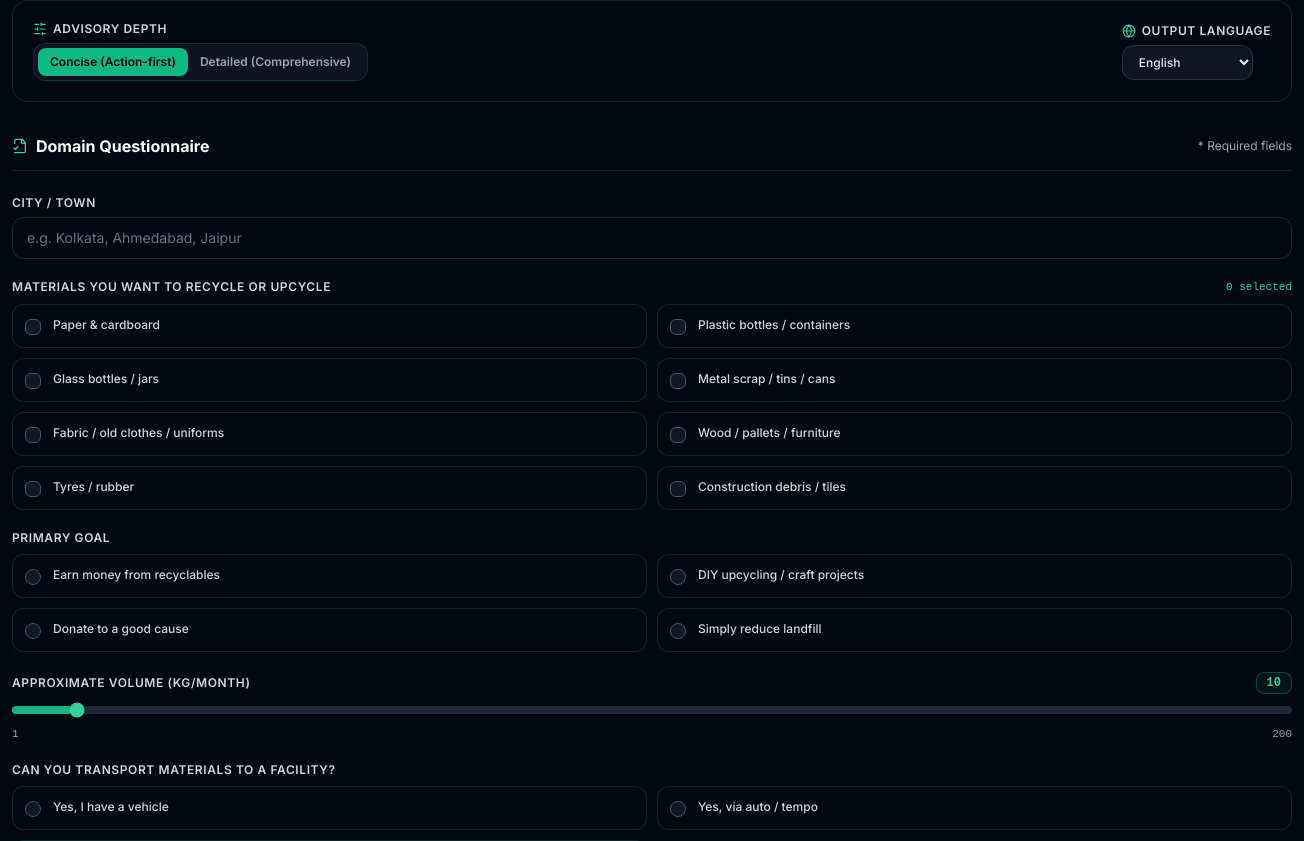
Test: DynamicForm & Formulation Studio › respects visibleWhen conditions for conditional fields
The width and height of the screenshot is (1304, 841).
Expected: the field labelled "DIY / crafting skill level" is not shown
Step 1. Click the button "DIY upcycling / craft projects" → [781, 574], box [657, 554, 1292, 598]
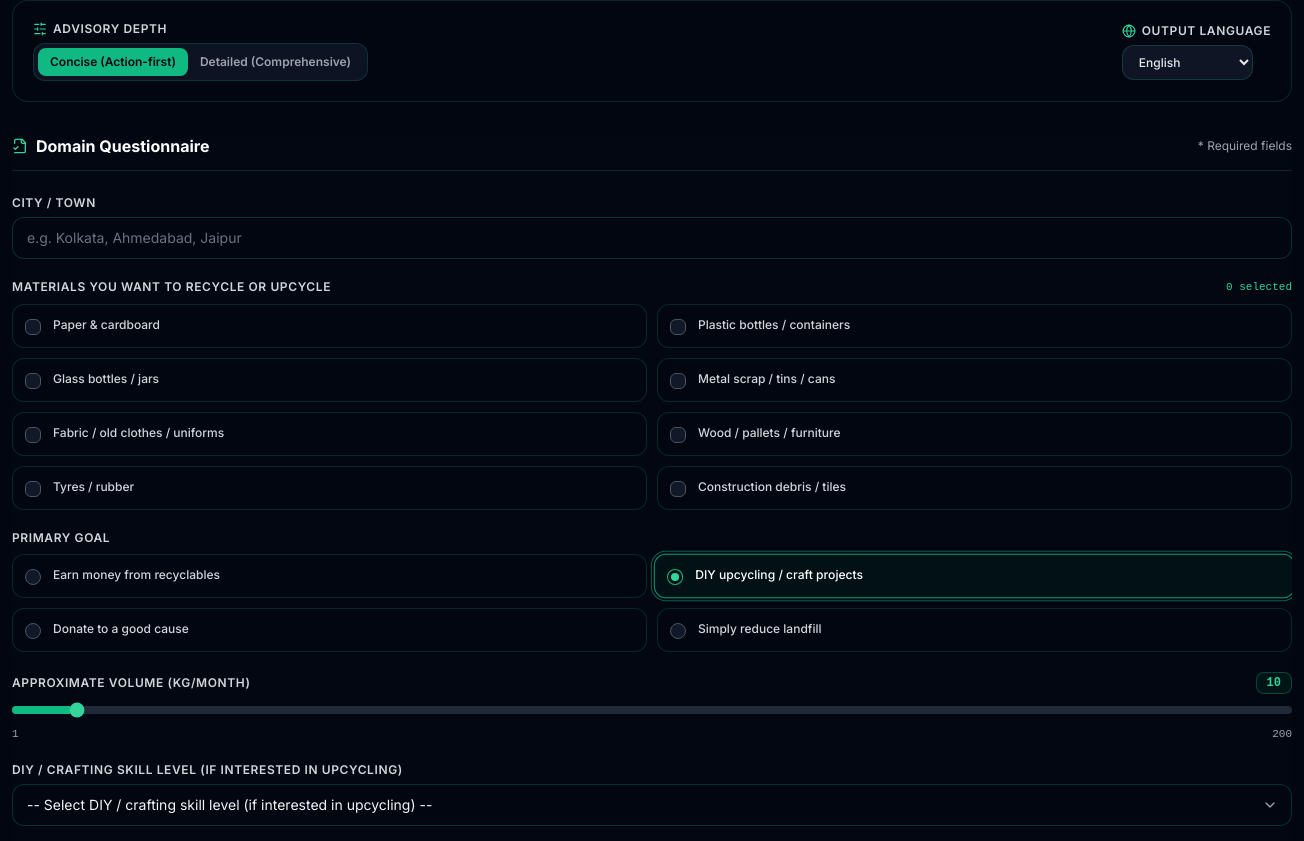
Now the dropdown labelled "DIY / crafting skill level (if interested in upcycling)" is shown, box [12, 784, 1292, 826]
